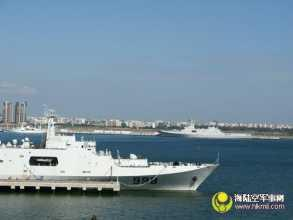warship: (1, 116, 218, 195)
